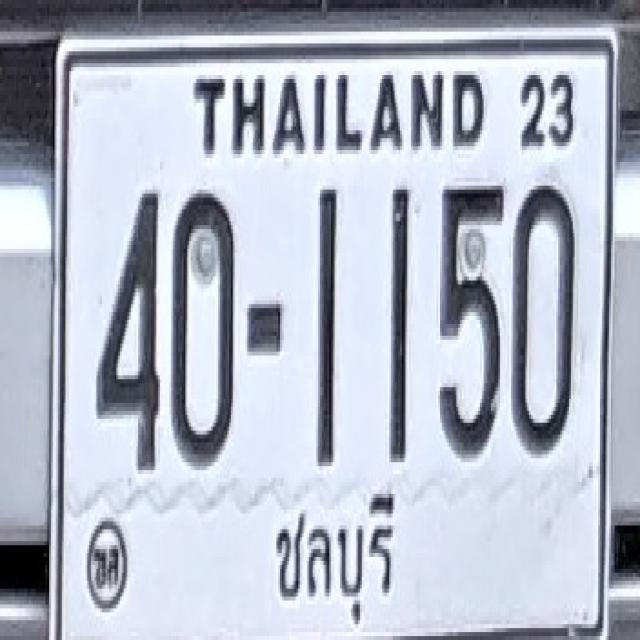0: (171, 188, 234, 464), (512, 180, 575, 452)
1: (388, 184, 410, 456), (316, 184, 336, 460)
4: (96, 188, 160, 468)
5: (438, 180, 504, 456)
CBI: (265, 486, 398, 638)
